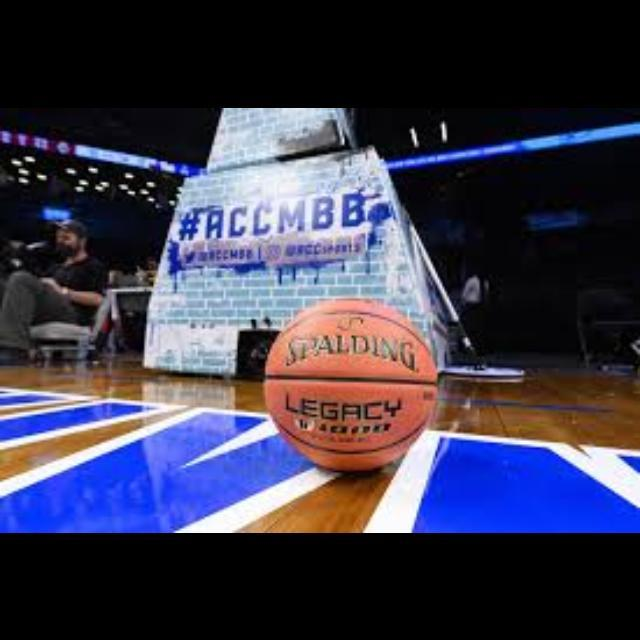basketball: (264, 299, 438, 471)
